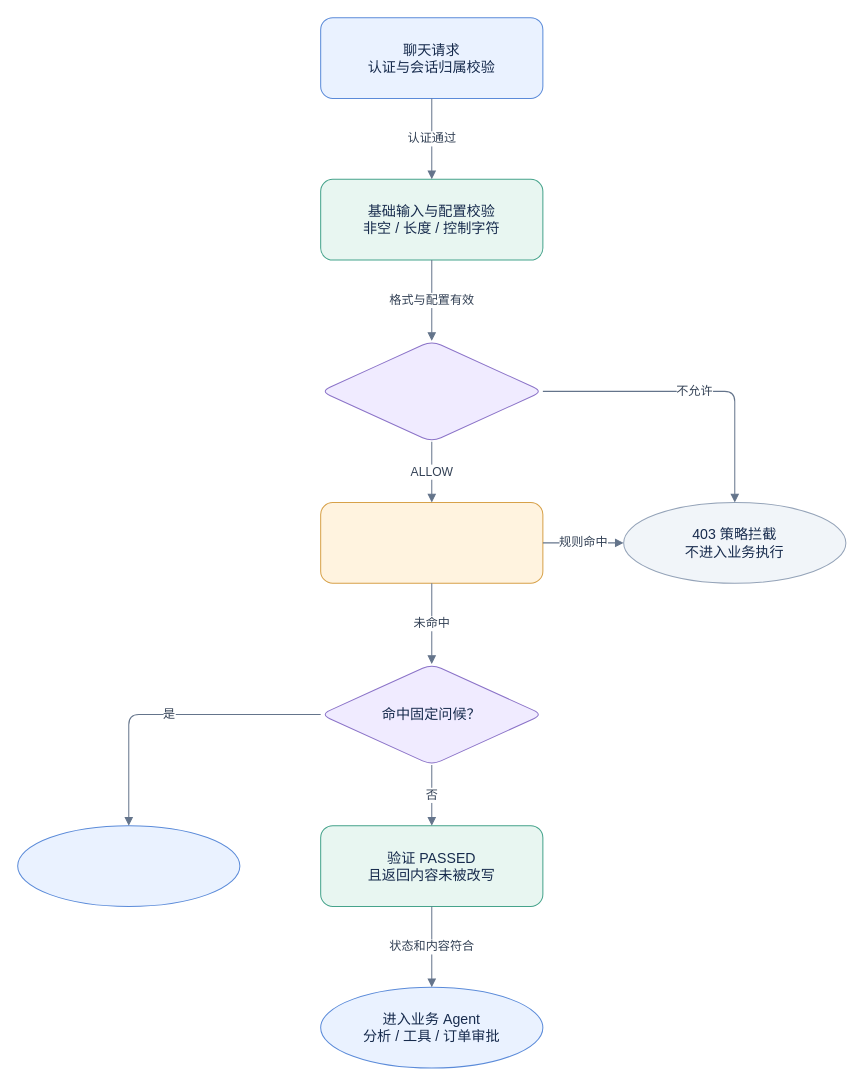
This 864x1086 diagram has some shape labels left out. Here are the shapes that lost their labels. From the top down, the centre of each, then its label:
(x=431, y=391): 语义审查允许？
(x=431, y=542): 确定性业务规则 指定整句联系人导出检查
(x=128, y=865): 固定回复中间件 写入答复并结束本轮
